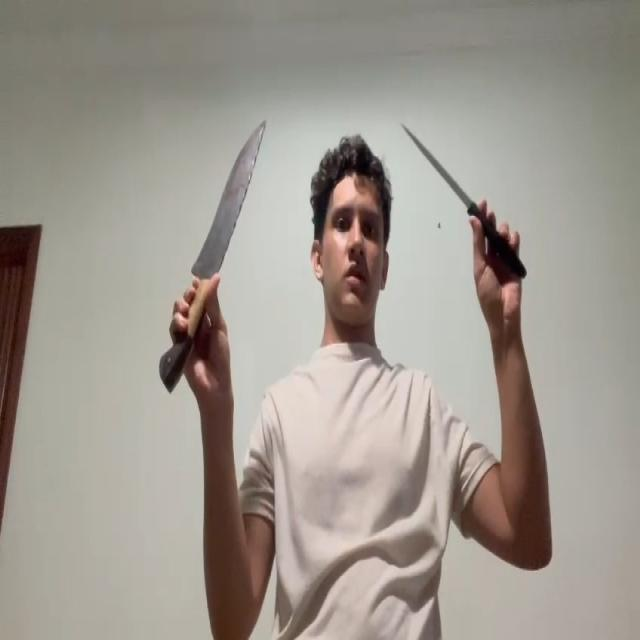knife: (190, 117, 266, 279), (401, 119, 472, 208)
